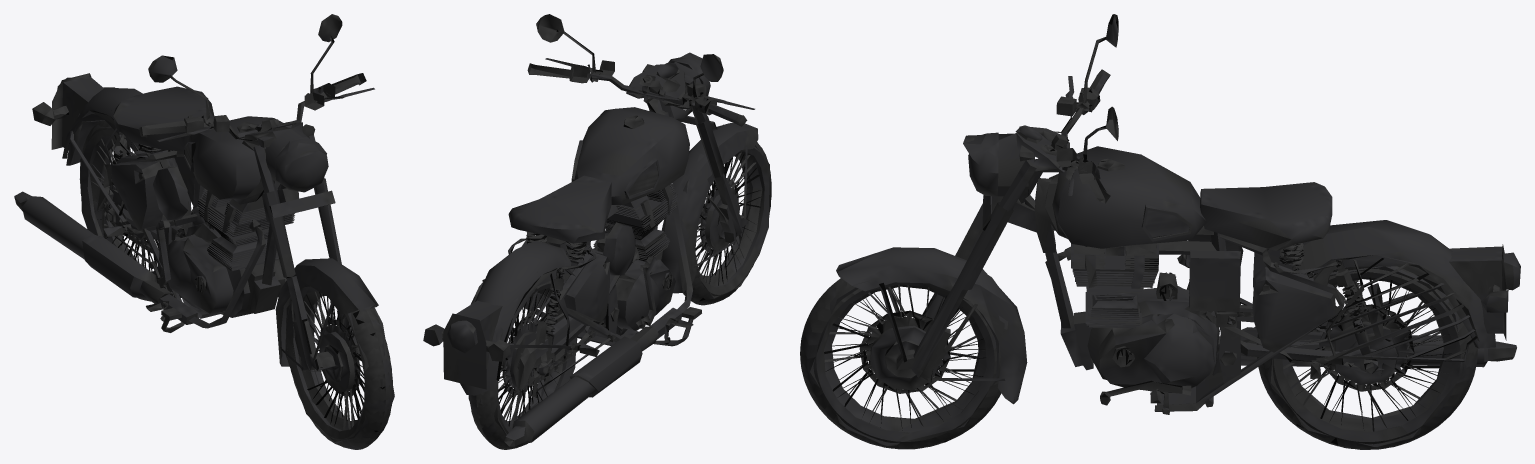
Rendered from enfield_black.glb.
3 views of the same model, side by side, from view 1: azimuth 30°, elevation 25°; view 2: azimuth 150°, elevation 25°; view 3: azimuth 270°, elevation 25° (orthographic). The views are drawn at different scales.
Visible parts, largest first — view 1: enfield_black, wheel_bars, wheel_f, wheel_r; view 2: enfield_black, wheel_bars, wheel_f, wheel_r; view 3: enfield_black, wheel_f, wheel_r, wheel_bars.
Boxes of the visible parts, x1,y1,x2,y2 form: enfield_black: (14,73,375,370); wheel_bars: (139,14,378,370); wheel_f: (279,278,394,449); wheel_r: (79,120,191,301); enfield_black: (423,64,758,446); wheel_bars: (527,14,754,244); wheel_f: (683,142,771,305); wheel_r: (468,276,577,449); enfield_black: (836,117,1520,414); wheel_f: (800,264,1005,449); wheel_r: (1257,266,1477,449); wheel_bars: (836,14,1118,382).
Bounding box in the file's own units: 0.8747 × 1.28 × 2.15.
Materials: 1 (1 with a texture image).
